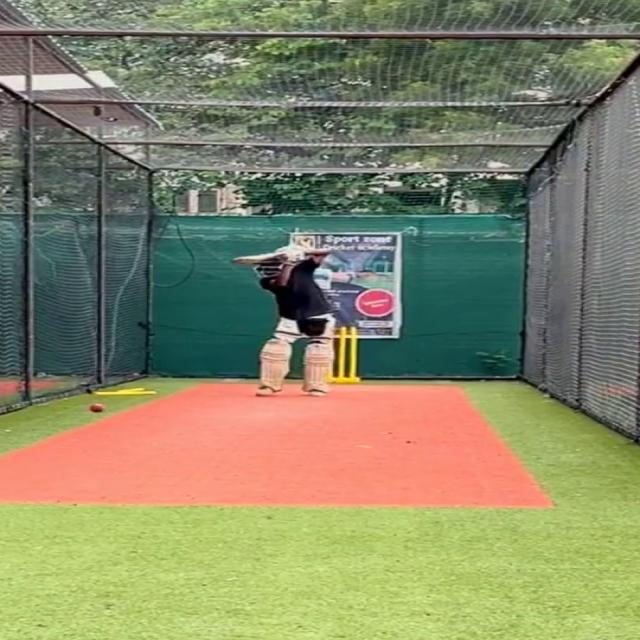ball: (86, 402, 105, 413)
stump: (326, 325, 359, 383)
